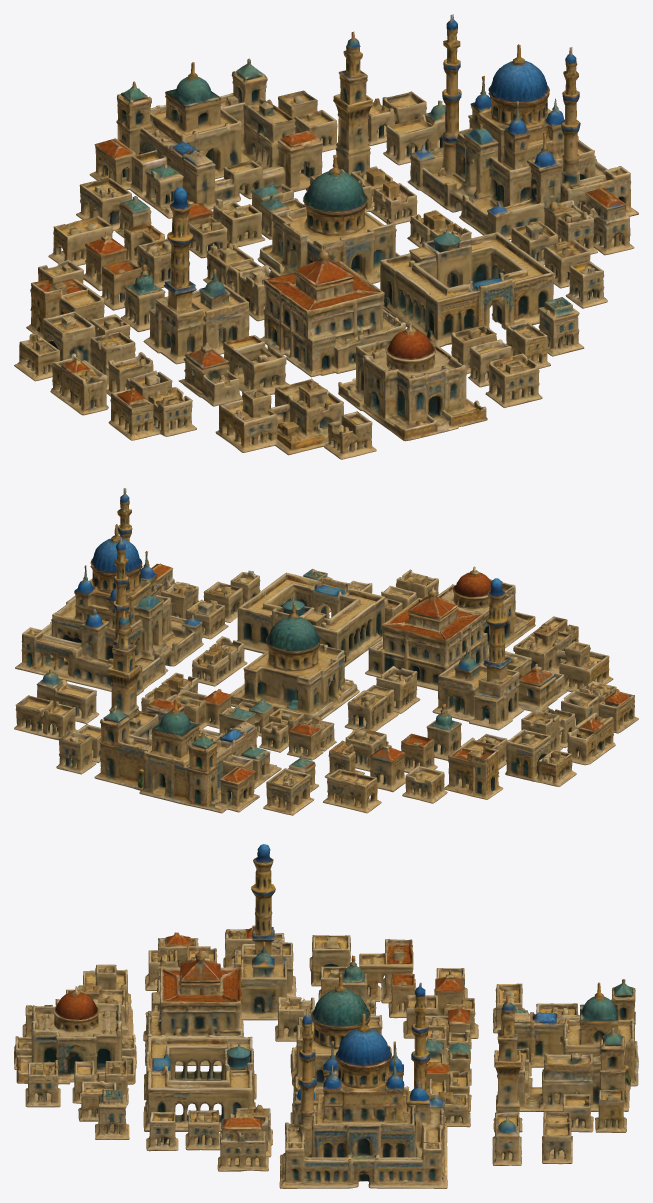
File: Enlightenment City (Middle Eastern).fbx
3 views of the same model, one above another, from view 1: azimuth 30°, elevation 25°; view 2: azimuth 150°, elevation 25°; view 3: azimuth 270°, elevation 25° (orthographic). The views are drawn at different scales.
Parts seen in each view (by area): view 1: tripo_node_43b6fcb5; view 2: tripo_node_43b6fcb5; view 3: tripo_node_43b6fcb5.
Part boxes in pixels (x1=…): tripo_node_43b6fcb5: x1=14, y1=14, x2=638, y2=459; tripo_node_43b6fcb5: x1=14, y1=488, x2=638, y2=815; tripo_node_43b6fcb5: x1=14, y1=844, x2=638, y2=1188.
Bounding box in the file's own units: 0.9981 × 0.3369 × 1.
